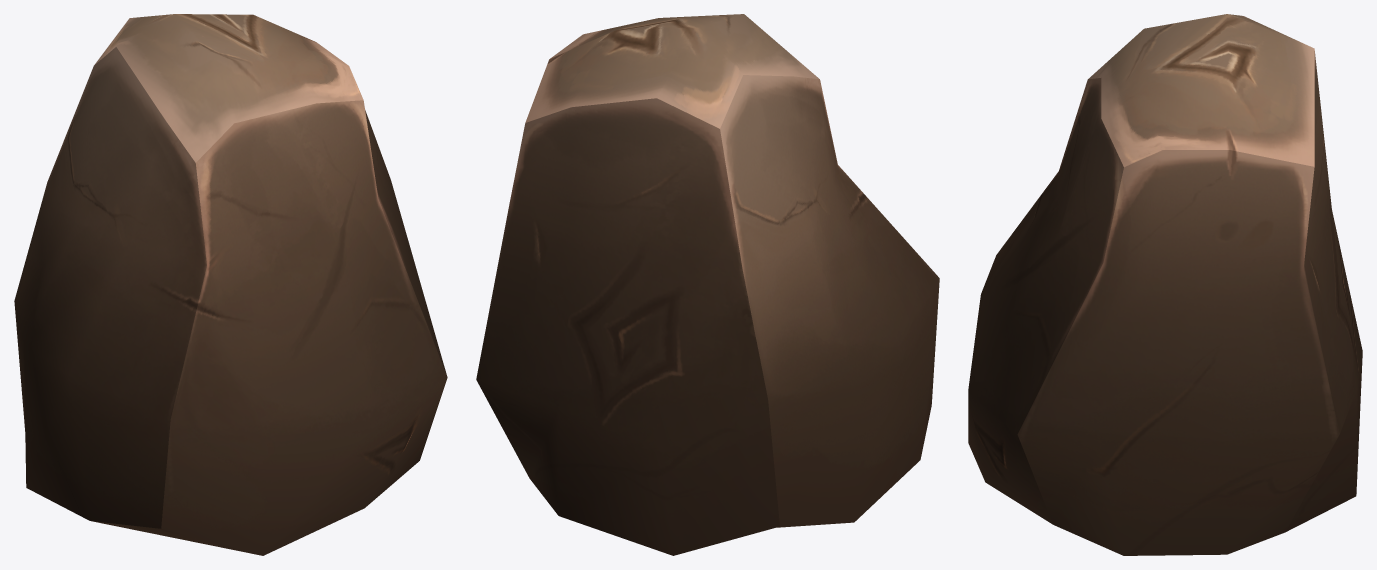
Rendered from rock_1.fbx.
The picture shows the model from 3 angles, left to right: view 1: azimuth 30°, elevation 25°; view 2: azimuth 150°, elevation 25°; view 3: azimuth 270°, elevation 25°; orthographic projection. The views are drawn at different scales.
Parts seen in each view (by area): view 1: rock_1; view 2: rock_1; view 3: rock_1.
Boxes of the visible parts, x1=… form: rock_1: x1=14, y1=14, x2=447, y2=555; rock_1: x1=476, y1=14, x2=939, y2=555; rock_1: x1=968, y1=14, x2=1362, y2=555.
Bounding box in the file's own units: 1.87 × 2.55 × 1.9.
